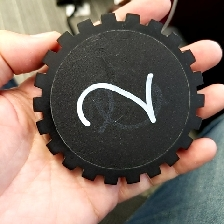gear: (31, 11, 206, 186)
